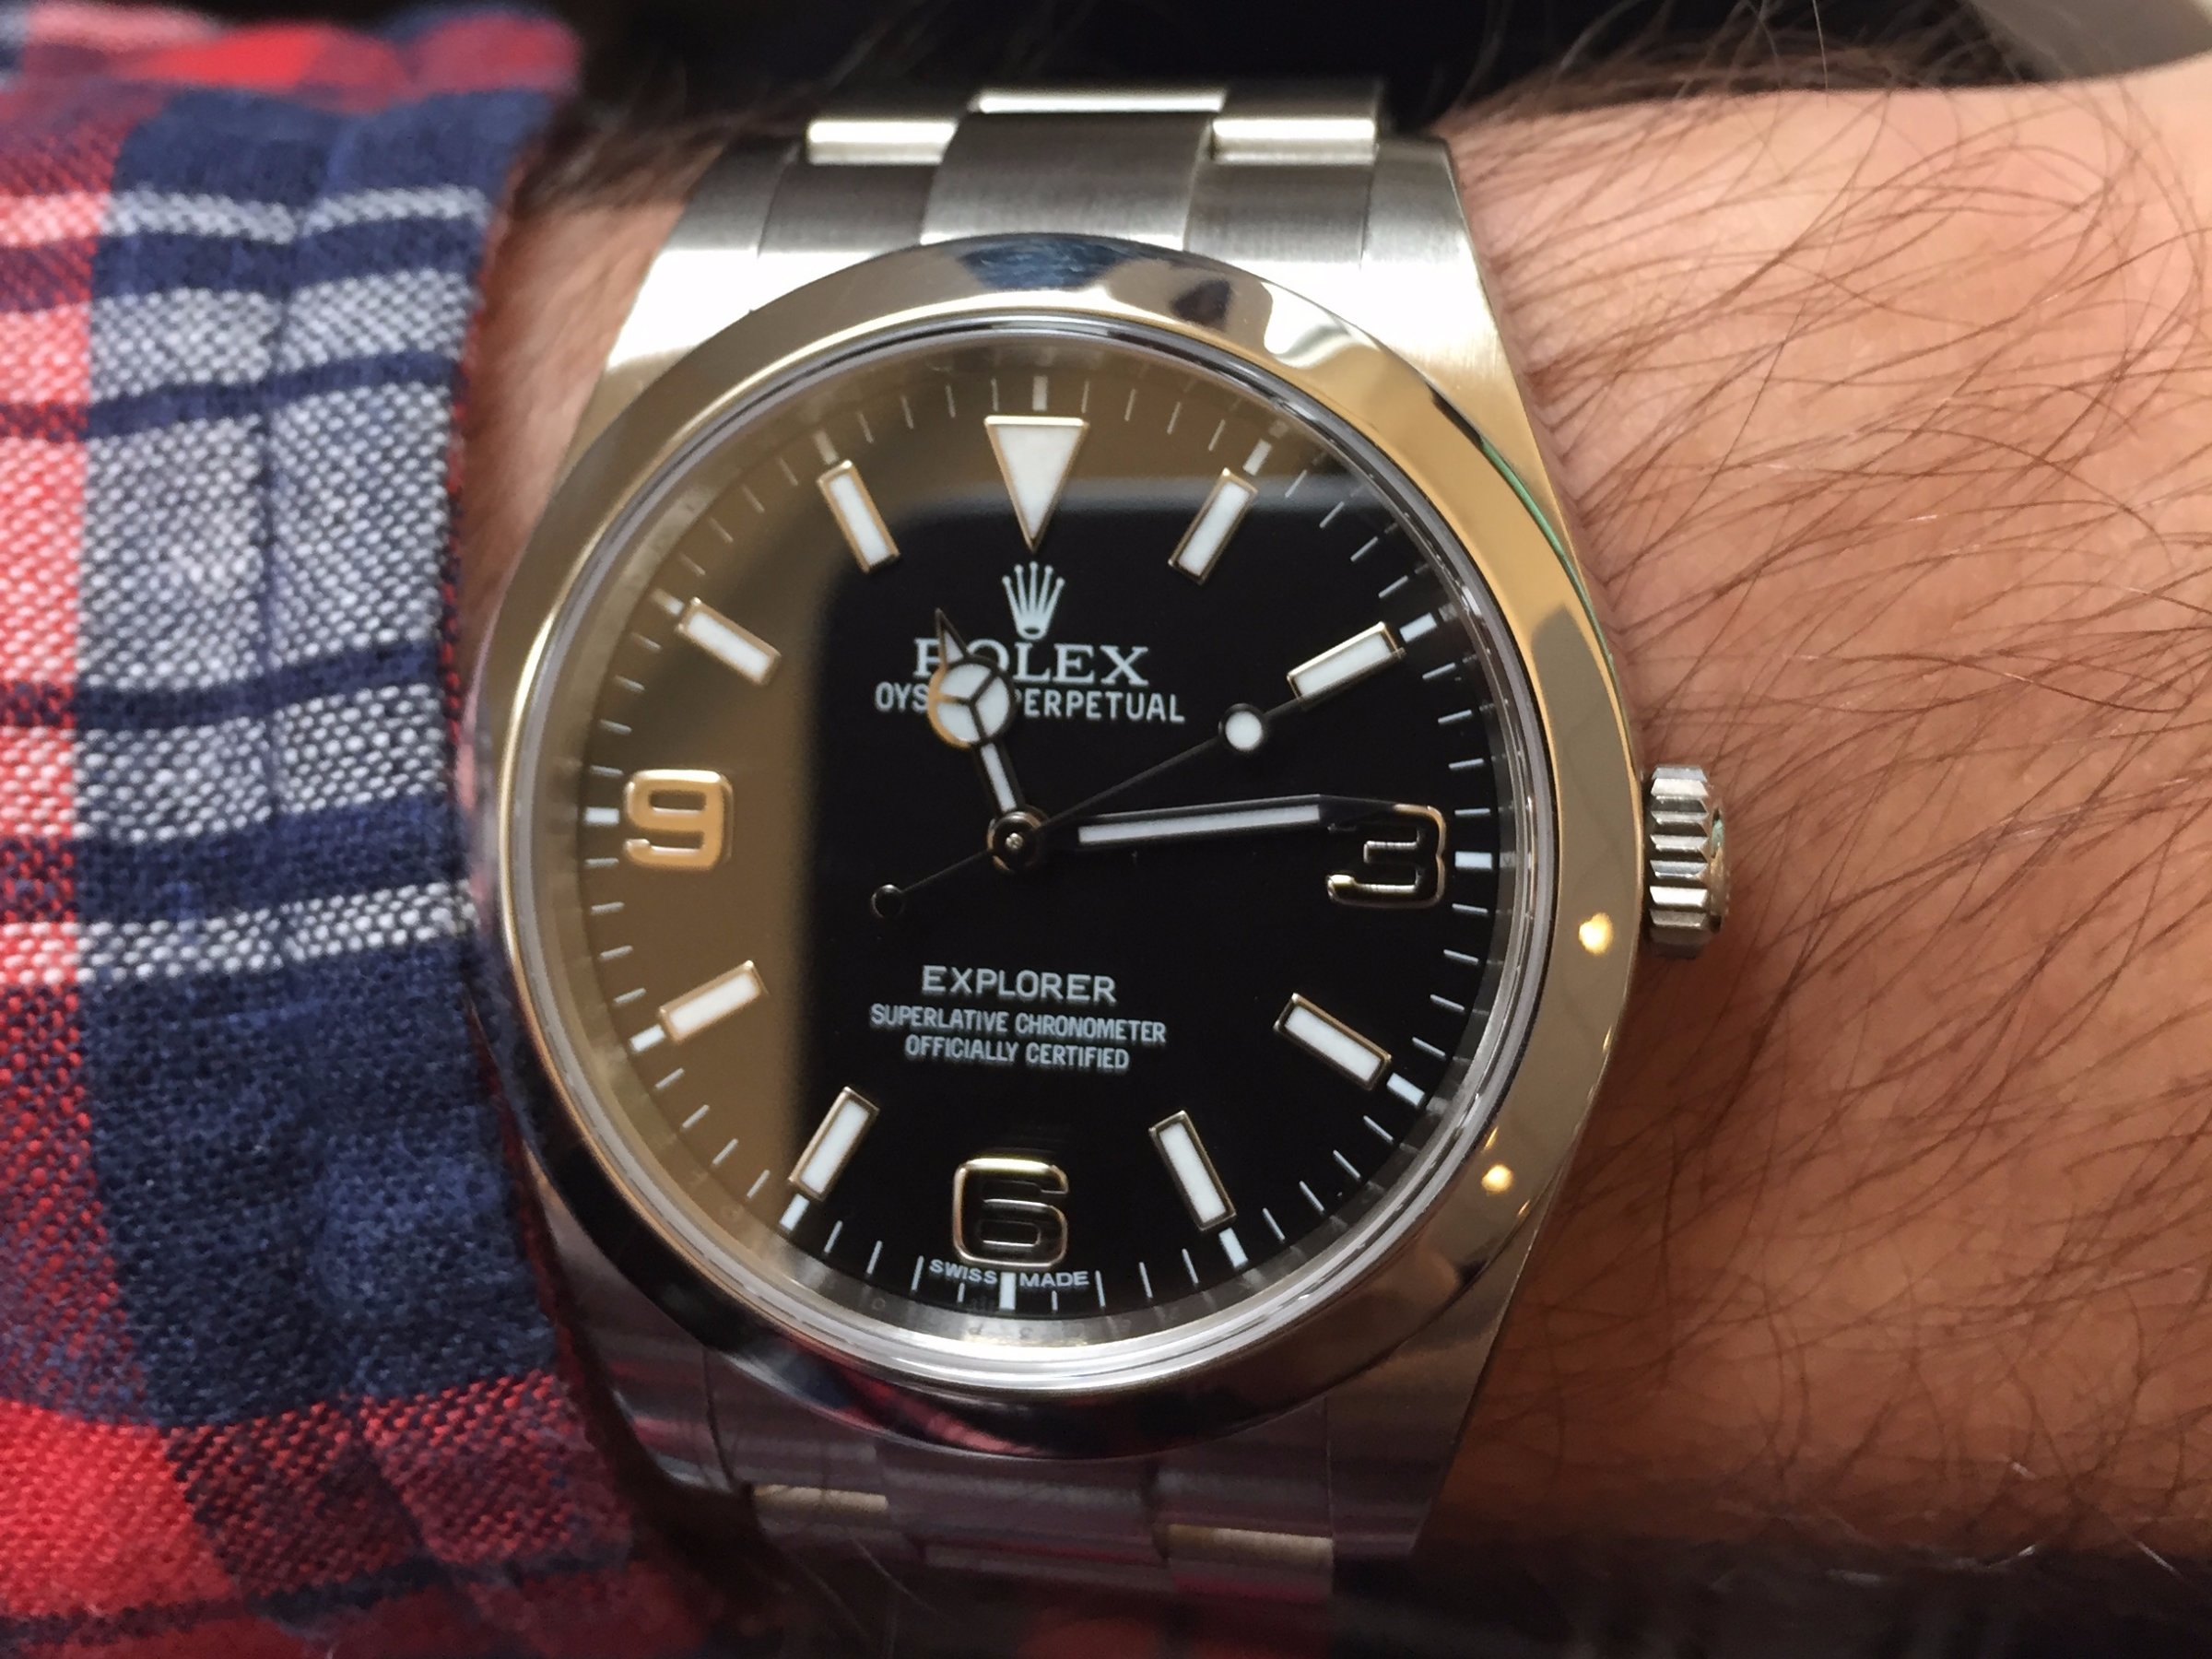clock: (456, 232, 1655, 1481)
